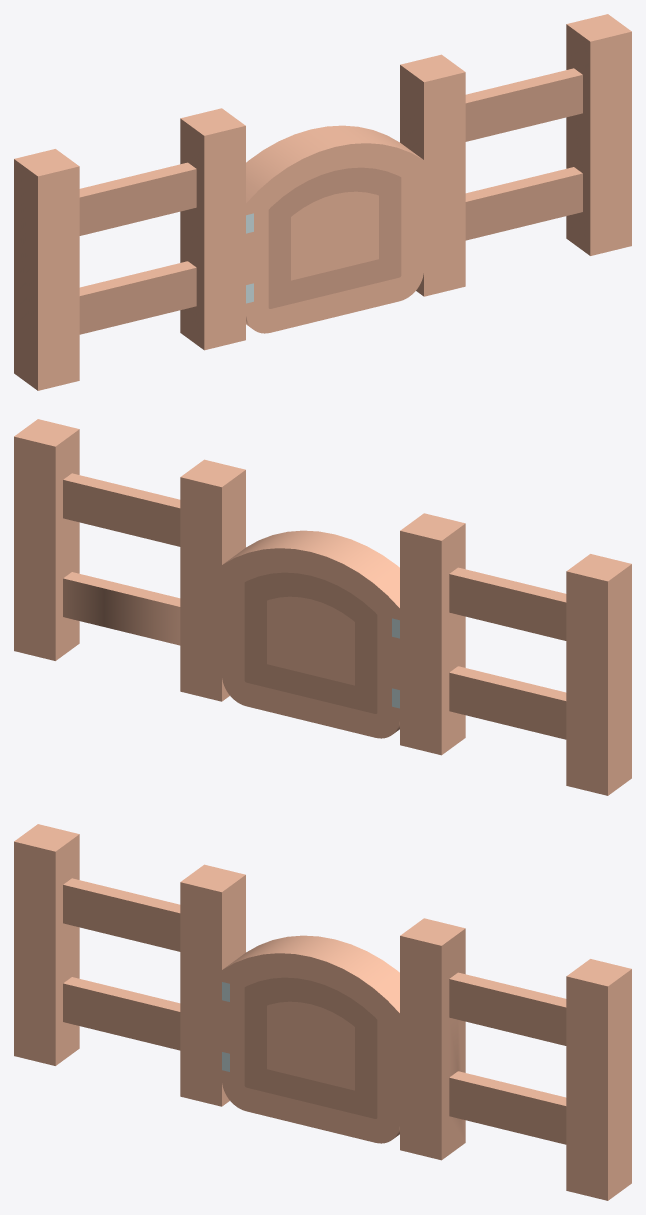
Rendered from kenney.nature-kit.fence_gate.glb.
3 views of the same model, one above another, from view 1: azimuth 30°, elevation 25°; view 2: azimuth 150°, elevation 25°; view 3: azimuth 330°, elevation 25° (orthographic).
Parts seen in each view (by area): view 1: fence_gate, gate; view 2: fence_gate, gate; view 3: fence_gate, gate.
Boxes of the visible parts, x1,y1,x2,y2 form: fence_gate: (14, 14, 631, 390); gate: (246, 125, 423, 333); fence_gate: (14, 419, 631, 795); gate: (222, 530, 399, 738); fence_gate: (14, 824, 631, 1200); gate: (222, 935, 399, 1143).
Bounding box in the file's own units: 1 × 0.345 × 0.07.
